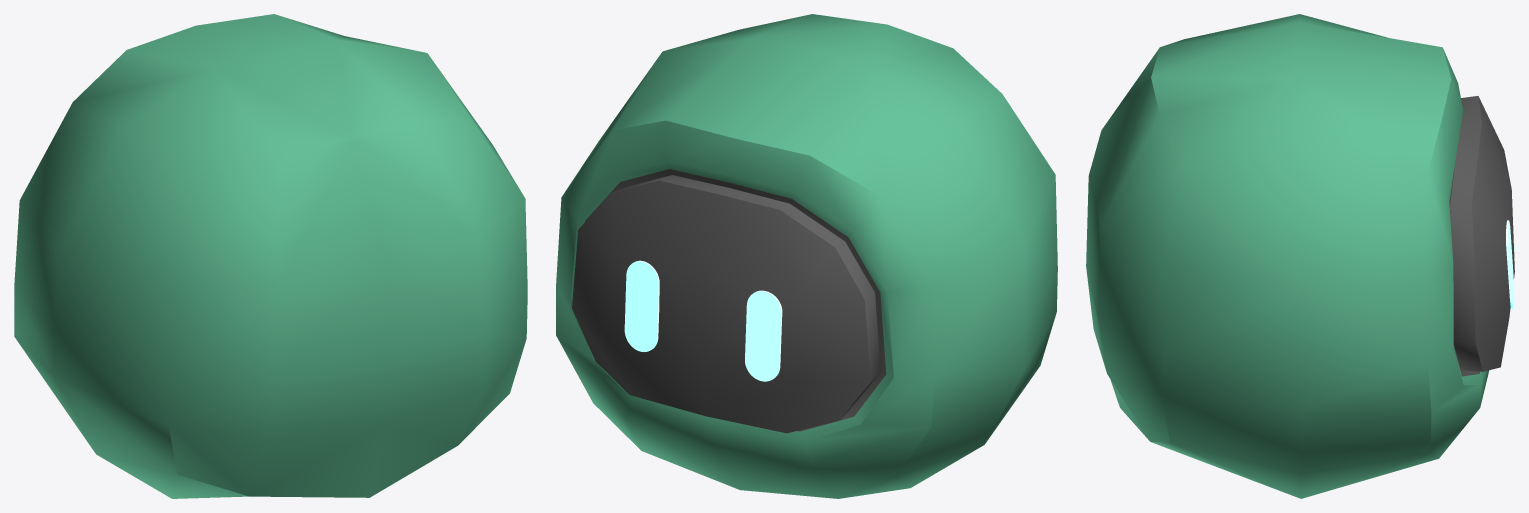
File: ball.glb
3 views of the same model, side by side, from view 1: azimuth 30°, elevation 25°; view 2: azimuth 150°, elevation 25°; view 3: azimuth 270°, elevation 25° (orthographic). The views are drawn at different scales.
Parts seen in each view (by area): view 1: body; view 2: body, face, eyes; view 3: body, face, eyes.
Boxes of the visible parts, x1,y1,x2,y2 form: body: [14, 14, 527, 498]; body: [556, 14, 1057, 498]; face: [572, 169, 886, 433]; eyes: [624, 260, 782, 381]; body: [1086, 14, 1489, 498]; face: [1449, 96, 1514, 376]; eyes: [1506, 162, 1514, 309].
Bounding box in the file's own units: 1.96 × 1.84 × 1.74.
